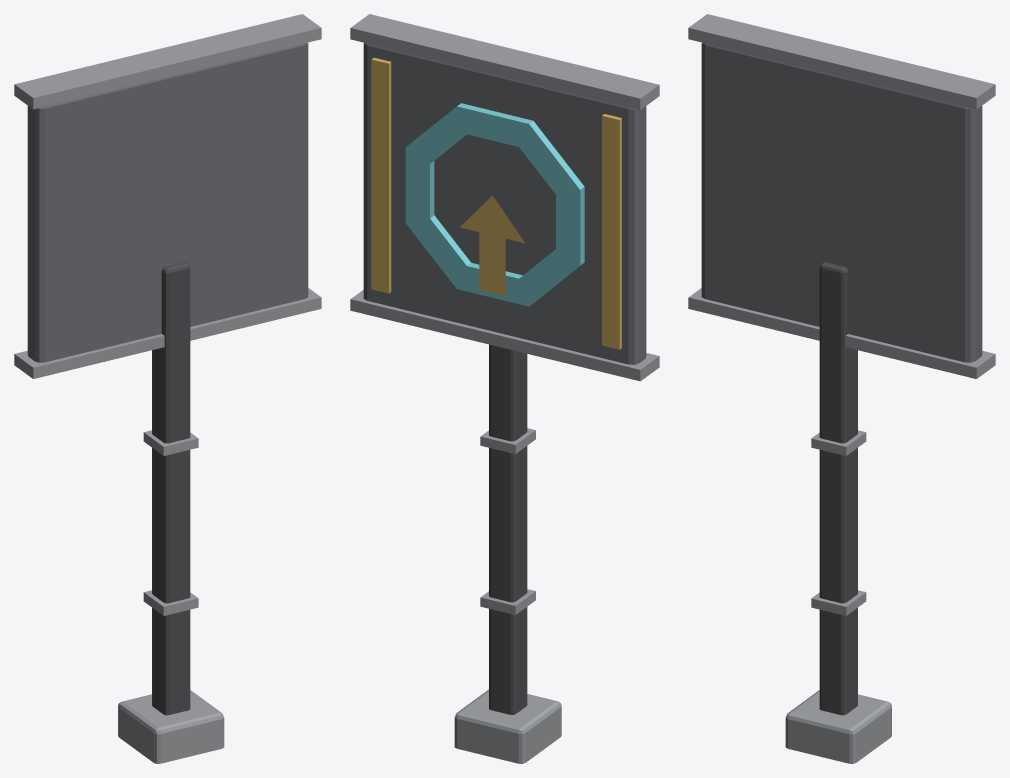
The model's file is rn2-fabrica-sign.glb.
3 renders of one model, left to right at view 1: azimuth 30°, elevation 25°; view 2: azimuth 150°, elevation 25°; view 3: azimuth 330°, elevation 25°, orthographic.
Visible parts, largest first — view 1: rn2_fabrica_sign_body; view 2: rn2_fabrica_sign_body, rn2_fabrica_sign_glow; view 3: rn2_fabrica_sign_body.
Part boxes in pixels (x1,y1,x2,y2): rn2_fabrica_sign_body: (14,14,321,763); rn2_fabrica_sign_body: (350,14,659,763); rn2_fabrica_sign_glow: (371,57,621,349); rn2_fabrica_sign_body: (688,14,995,763).
Size of the model in its own units: 2.64 by 5.98 by 0.64.
